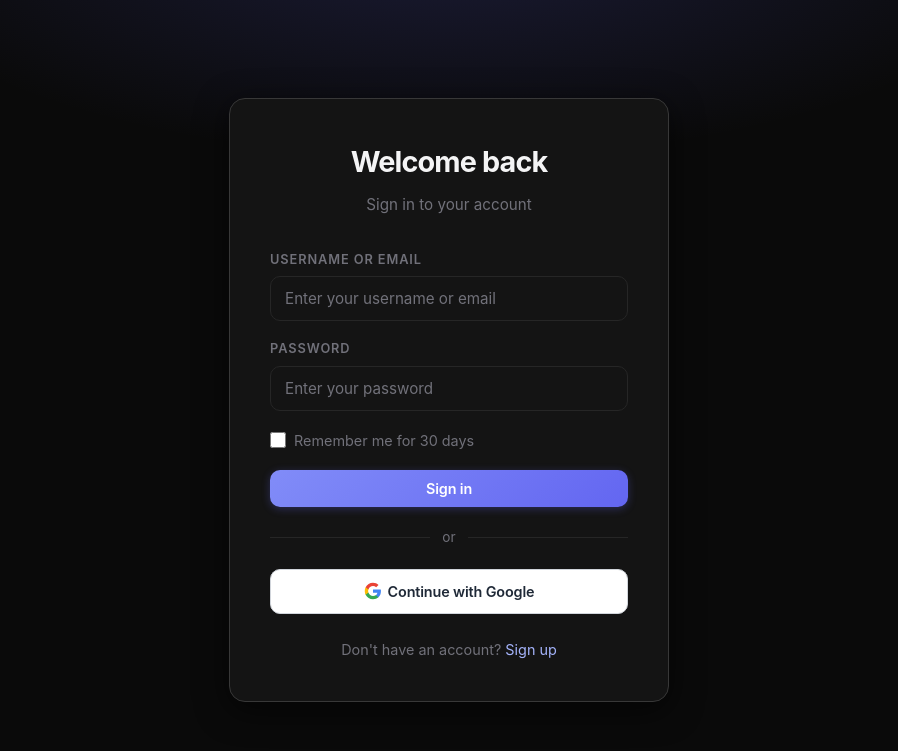
LoginPage › Error handling › shows fallback message on network error (no response object)
Type "testuser" into the field with placeholder "Enter your username or email".
click(449, 299); type("testuser")  # box [270,276,628,321]
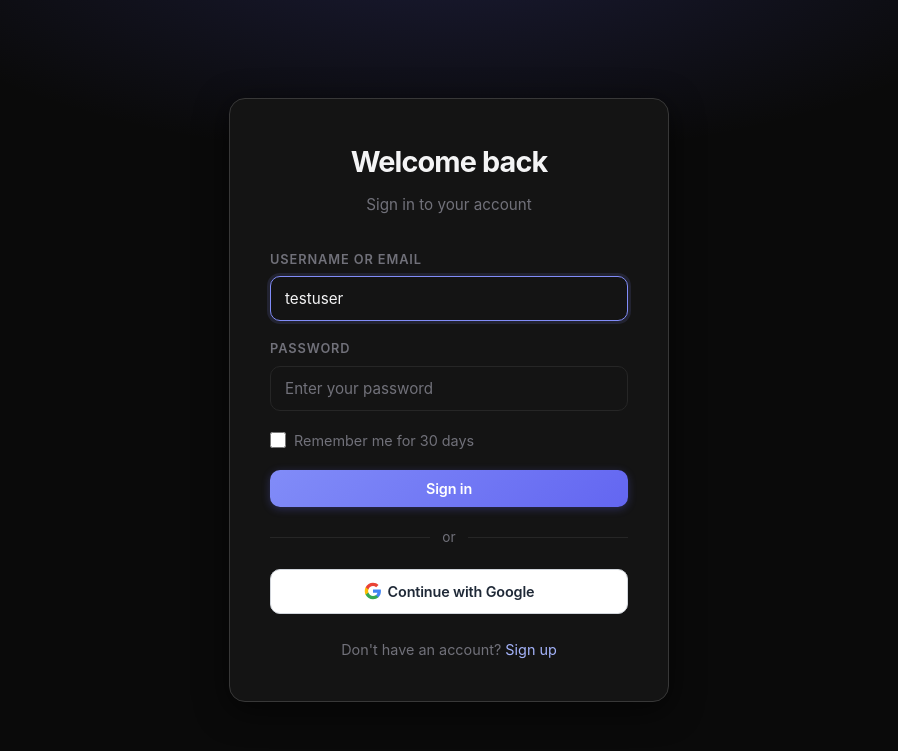
Type "password123" into the password field with placeholder "Enter your password".
click(449, 388); type("password123")  # box [270,366,628,411]
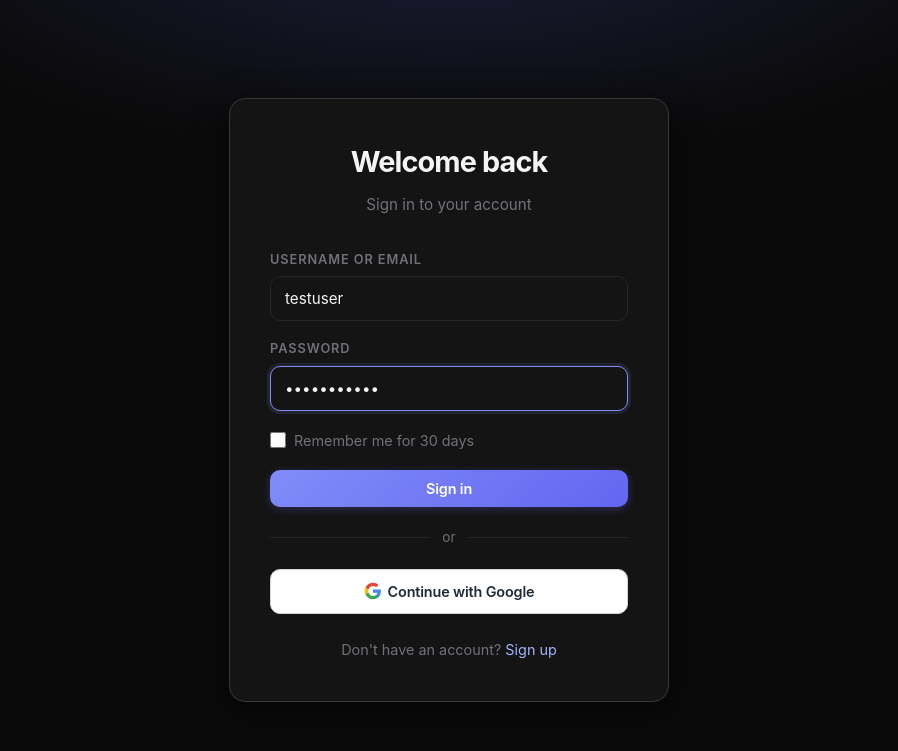
Click the button "Sign in".
click(449, 488)  # box [270,470,628,507]
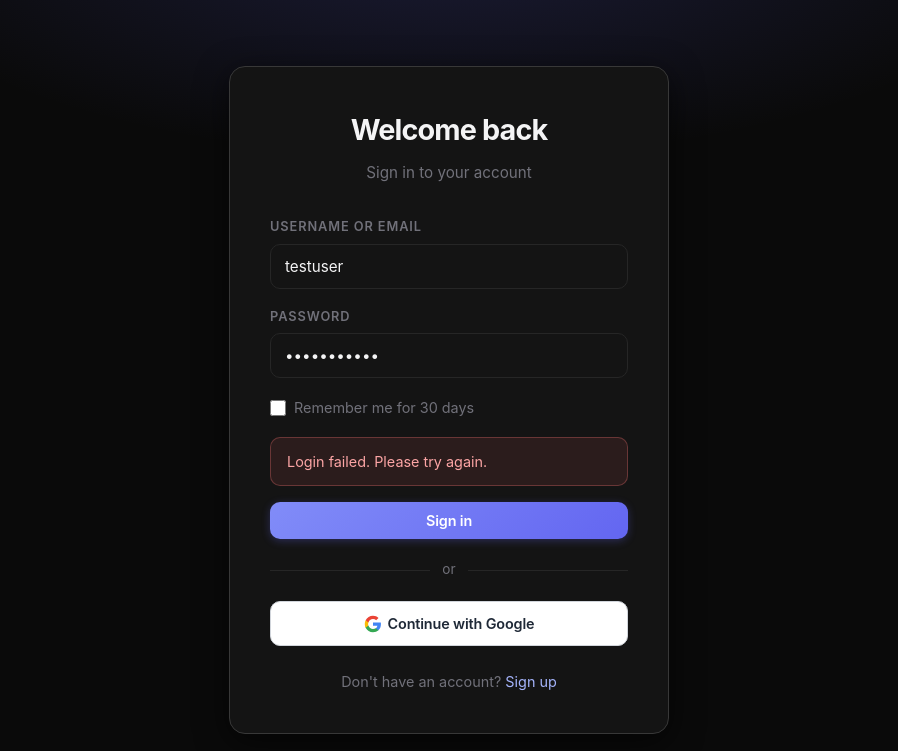
Result: the text "Login failed. Please try again." is shown at [270,437,628,486]
